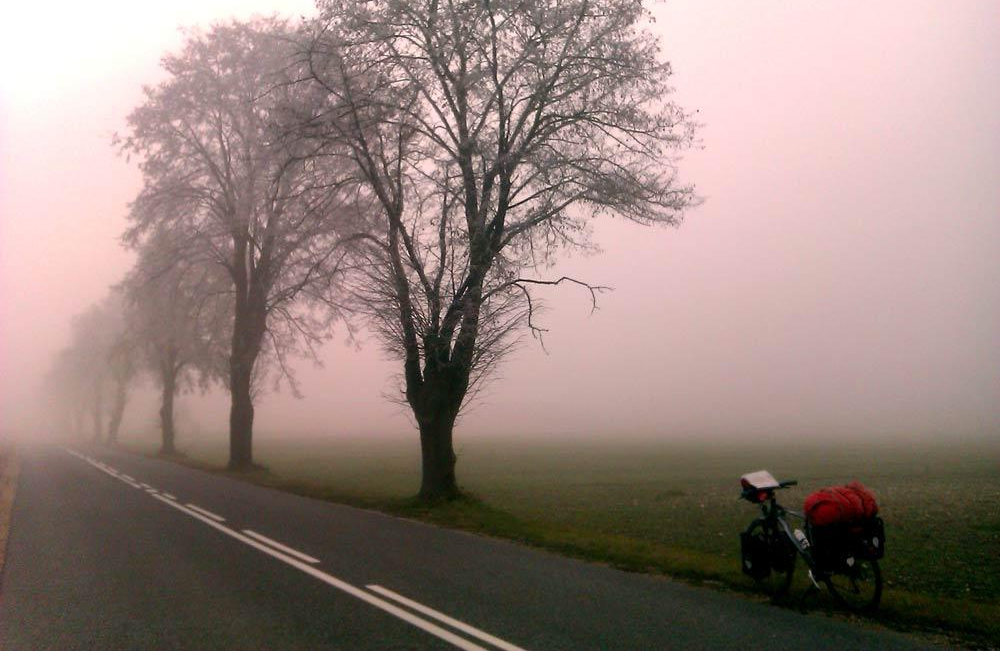bicycle: (735, 468, 888, 620)
